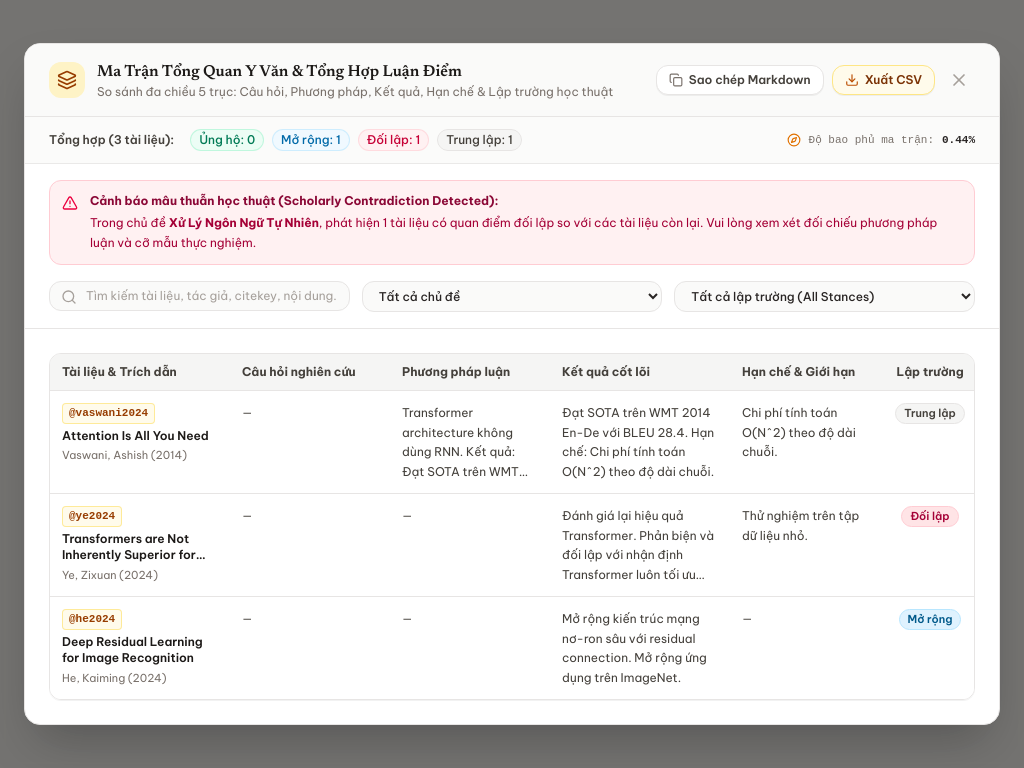
it: Phase 8B: Literature Review Matrix & Claim Synthesis UI Integration › 3. Lọc ma trận theo lập trường (stance) và chủ đề (topic)
expect the row with test id "matrix-row-res-a" is shown: met, box [50,390,975,494]
expect the row with test id "matrix-row-res-b" is shown: met, box [50,494,975,596]
Note: Lọc theo chủ đề Thị Giác Máy Tính
Select "Thị Giác Máy Tính" in the dropdown with test id "matrix-topic-filter": (512, 296) [362,281,662,312]
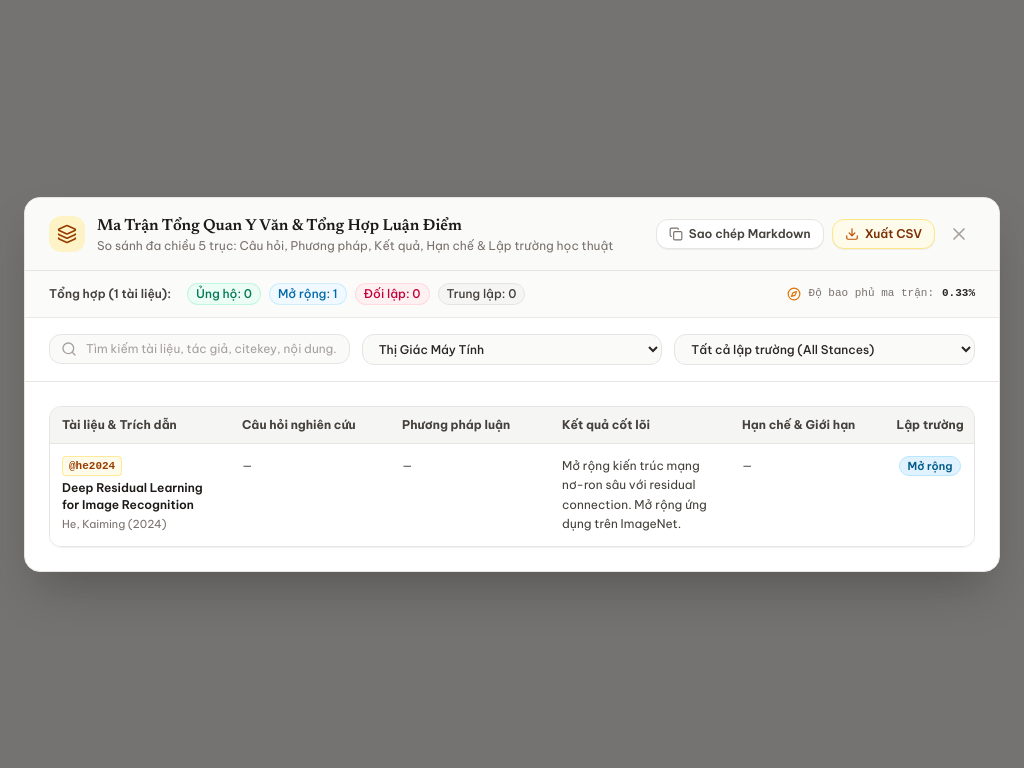
expect the row with test id "matrix-row-res-c" is shown: met, box [50,443,975,546]
expect the row with test id "matrix-row-res-a" is gone: met
expect the row with test id "matrix-row-res-b" is gone: met
Note: Reset topic filter về "all"
Select "Tất cả chủ đề" in the dropdown with test id "matrix-topic-filter": (512, 349) [362,334,662,364]
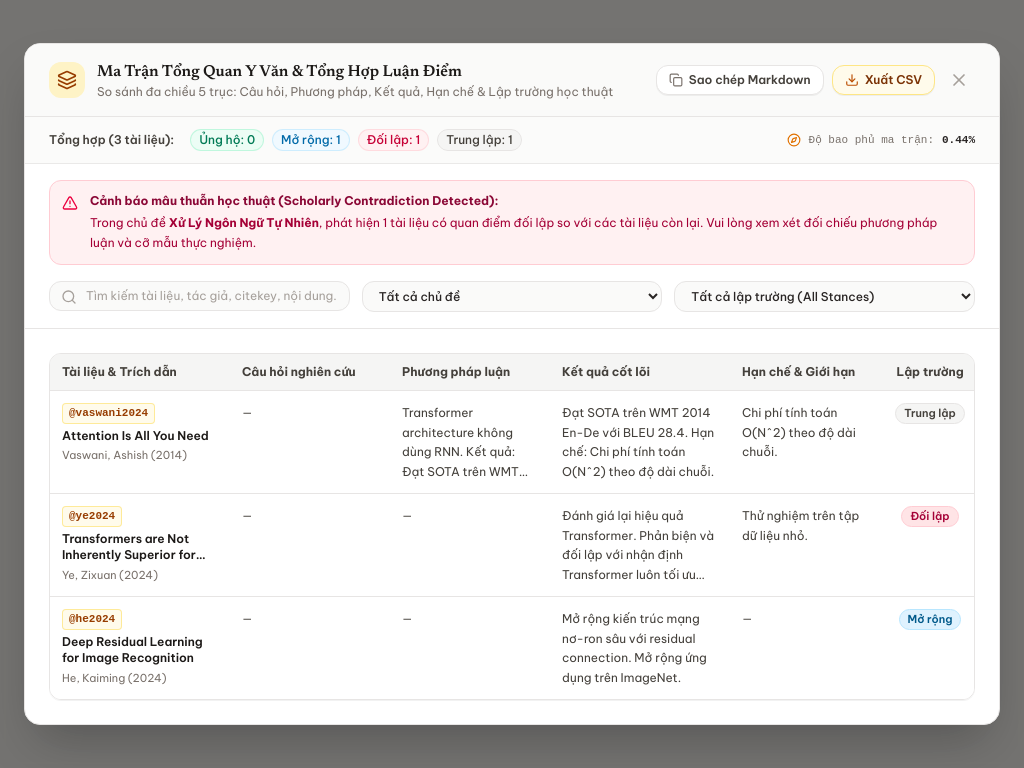
expect the row with test id "matrix-row-res-a" is shown: met, box [50,390,975,494]
Note: Lọc theo lập trường contradicts
Select "Đối lập (Contradicts)" in the dropdown with test id "matrix-stance-filter": (825, 296) [674,281,975,312]
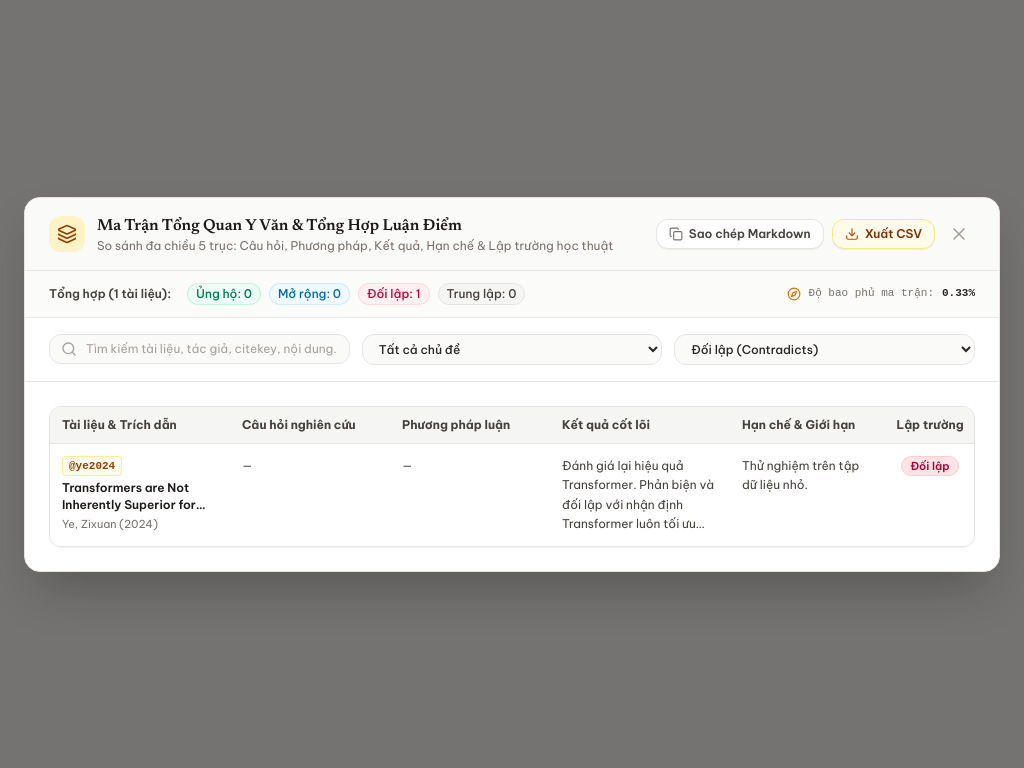
expect the row with test id "matrix-row-res-b" is shown: met, box [50,443,975,546]
expect the row with test id "matrix-row-res-a" is gone: met
expect the row with test id "matrix-row-res-c" is gone: met
